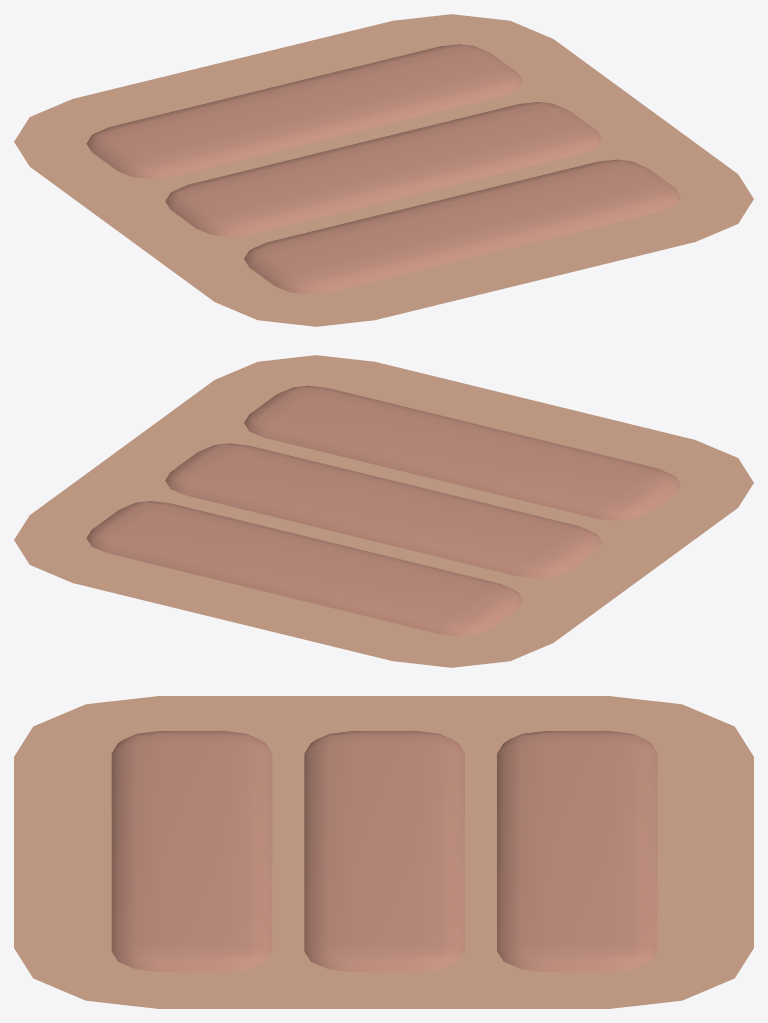
The model's file is SeedBed.fbx.
3 views of the same model, one above another, from view 1: azimuth 30°, elevation 25°; view 2: azimuth 150°, elevation 25°; view 3: azimuth 270°, elevation 25° (orthographic). The views are drawn at different scales.
Visible parts, largest first — view 1: SeedBed; view 2: SeedBed; view 3: SeedBed.
Boxes of the visible parts, x1,y1,x2,y2 form: SeedBed: [14, 14, 753, 326]; SeedBed: [14, 355, 753, 667]; SeedBed: [14, 696, 753, 1008].
Size of the model in its own units: 11.36 by 0.1612 by 11.36.
